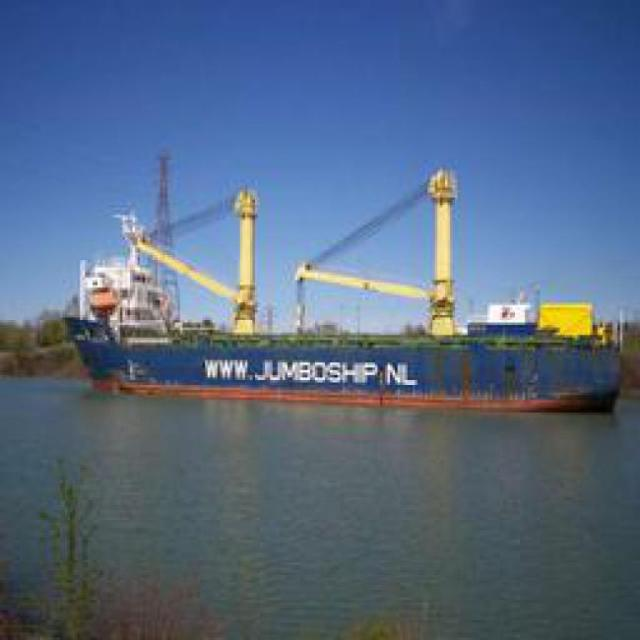boat: (65, 225, 623, 424)
